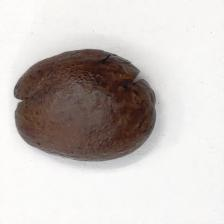NG: (101, 46, 152, 88), (12, 83, 27, 117)
